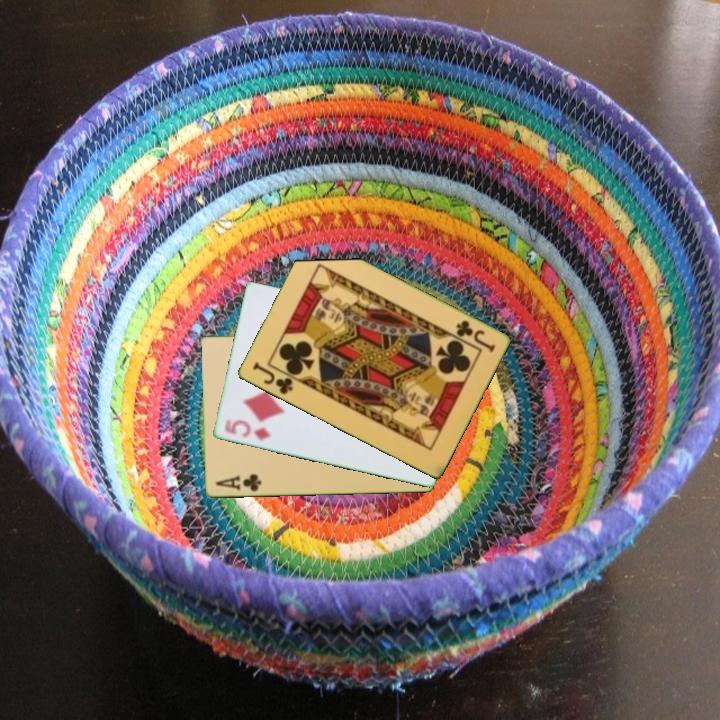5d: (220, 416, 273, 444)
Ac: (211, 470, 264, 494)
Jc: (249, 358, 295, 398), (452, 317, 498, 355)
